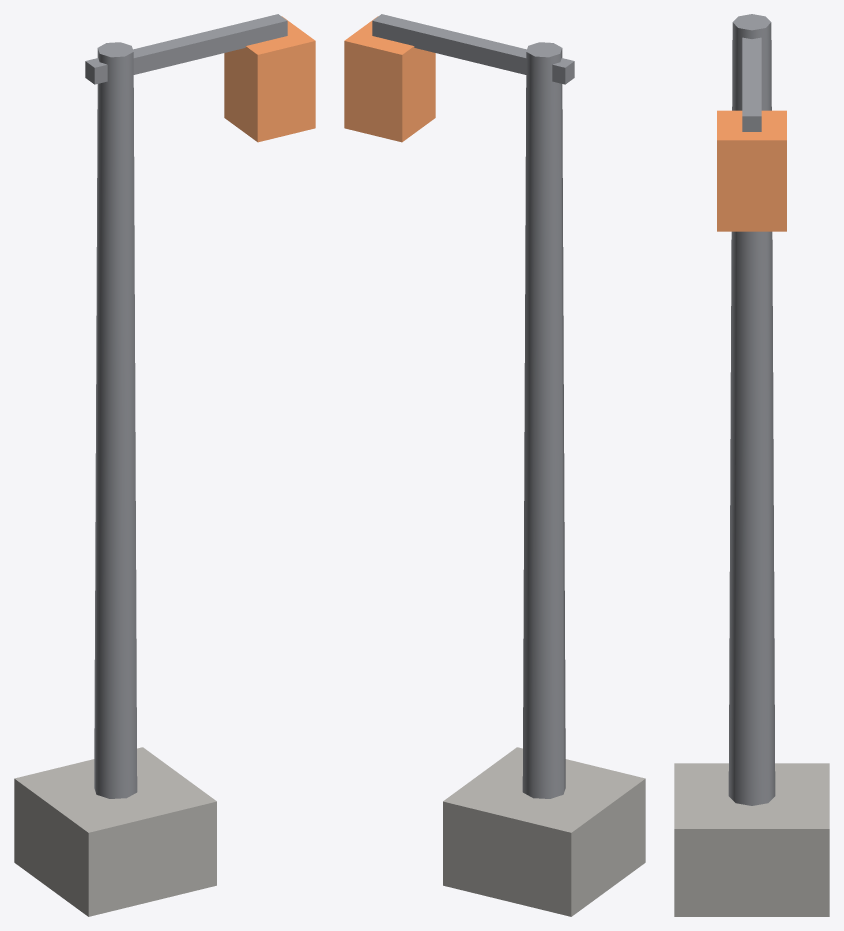
File: build_lamppost.glb
3 renders of one model, left to right at view 1: azimuth 30°, elevation 25°; view 2: azimuth 150°, elevation 25°; view 3: azimuth 270°, elevation 25°, orthographic. The views are drawn at different scales.
Visible parts, largest first — view 1: Baked; view 2: Baked; view 3: Baked.
Boxes of the visible parts, x1,y1,x2,y2 form: Baked: (14,14,315,916); Baked: (344,14,645,916); Baked: (674,14,829,916).
Bounding box in the file's own units: 0.77 × 2.45 × 0.4.
